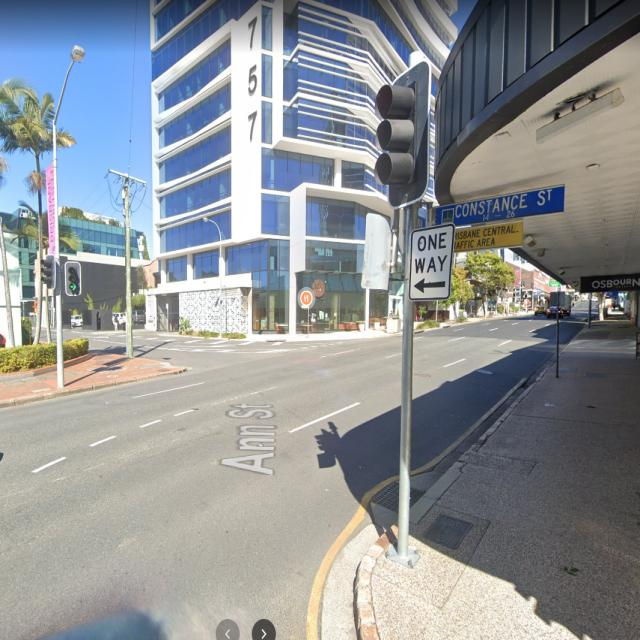concrete-pole: (124, 172, 133, 358)
crossarm: (107, 166, 147, 187)
light pole: (51, 43, 85, 387)
steel-pole: (396, 50, 428, 558), (52, 119, 65, 386), (220, 230, 222, 340)
streetlight: (53, 45, 86, 124), (202, 216, 220, 230)
traffic pole: (376, 50, 431, 558)
traffic-light: (376, 61, 429, 210), (64, 259, 82, 298), (42, 253, 56, 290)
